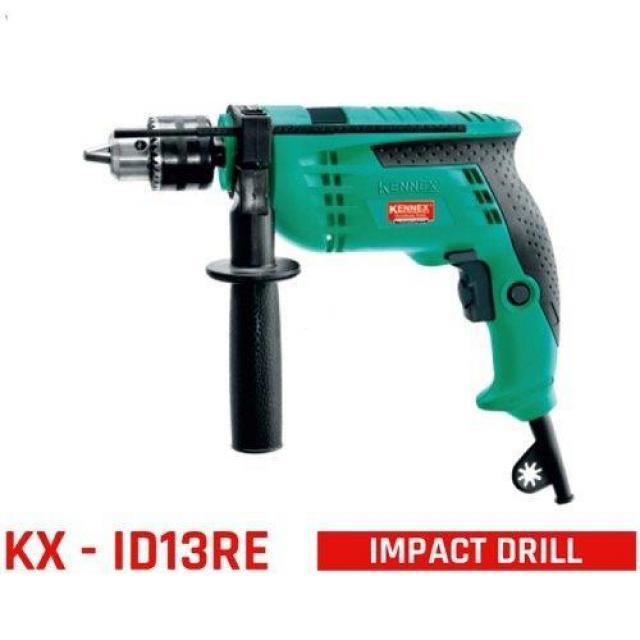drill: (82, 103, 576, 506)
